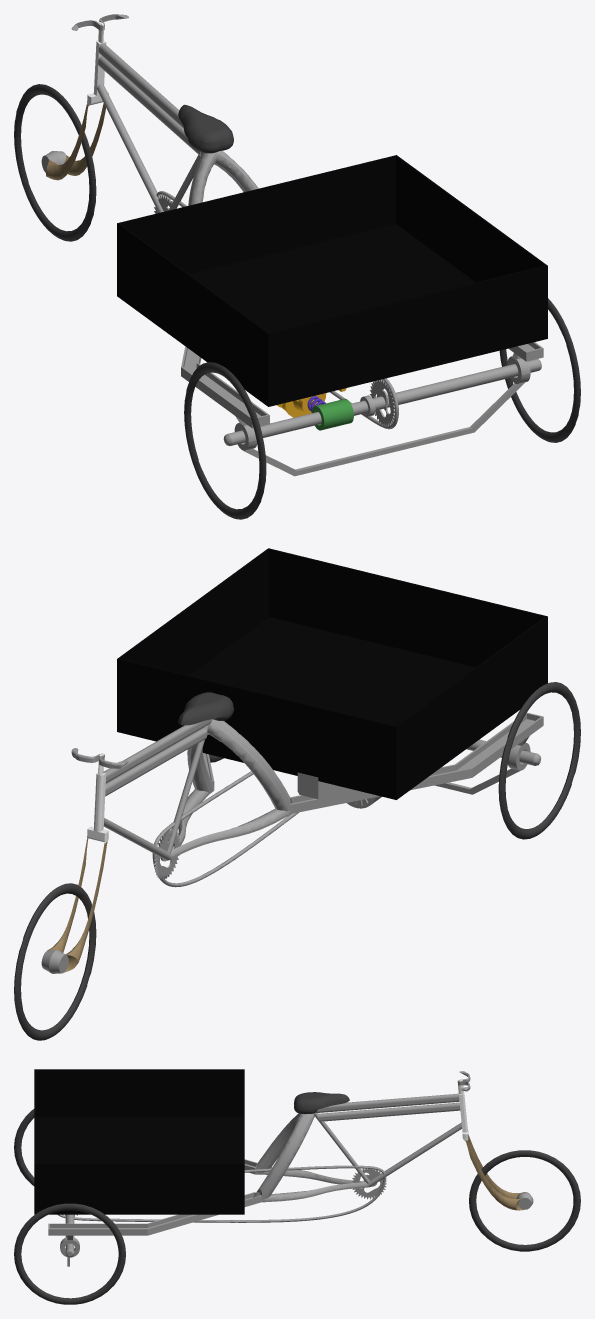
The model's file is tirare1234.glb.
The picture shows the model from 3 angles, top to bottom: view 1: azimuth 30°, elevation 25°; view 2: azimuth 150°, elevation 25°; view 3: azimuth 270°, elevation 25°; orthographic projection. The views are drawn at different scales.
Visible parts, largest first — view 1: empty_33, empty_16, empty_21, empty_23, empty_2, empty_30, empty_24, empty_15, empty_13, empty_12, empty_14, empty_32 (+3 smaller); view 2: empty_33, empty_16, empty_23, empty_2, empty_13, empty_17, empty_15, empty_18, empty_31, empty_12, empty_5, empty_8 (+2 smaller); view 3: empty_33, empty_16, empty_24, empty_2, empty_13, empty_31, empty_17, empty_12, empty_15, empty_14, empty_23, empty_7 (+3 smaller).
Part boxes in pixels (<box>): empty_33: <box>117,155,547,406</box>; empty_16: <box>181,151,543,428</box>; empty_21: <box>223,359,541,445</box>; empty_23: <box>184,362,266,519</box>; empty_2: <box>14,84,96,241</box>; empty_30: <box>243,382,524,476</box>; empty_24: <box>499,298,580,442</box>; empty_15: <box>178,104,233,153</box>; empty_13: <box>98,56,202,210</box>; empty_12: <box>99,43,183,128</box>; empty_14: <box>97,83,163,212</box>; empty_32: <box>311,398,353,430</box>; empty_33: <box>117,548,547,799</box>; empty_16: <box>187,712,543,811</box>; empty_23: <box>498,682,580,839</box>; empty_2: <box>14,883,96,1040</box>; empty_13: <box>105,724,209,854</box>; empty_17: <box>170,789,290,859</box>; empty_15: <box>178,692,233,725</box>; empty_18: <box>291,719,543,813</box>; empty_31: <box>152,771,298,887</box>; empty_12: <box>103,719,211,782</box>; empty_5: <box>87,772,108,842</box>; empty_8: <box>64,841,107,972</box>; empty_33: <box>34,1069,244,1214</box>; empty_16: <box>48,1113,314,1235</box>; empty_24: <box>14,1203,125,1304</box>; empty_2: <box>469,1150,580,1251</box>; empty_13: <box>313,1102,460,1183</box>; empty_31: <box>57,1165,386,1222</box>; empty_17: <box>262,1167,368,1202</box>; empty_12: <box>315,1093,459,1112</box>; empty_15: <box>294,1092,349,1114</box>; empty_14: <box>367,1122,461,1187</box>; empty_23: <box>14,1109,34,1185</box>; empty_7: <box>465,1140,524,1210</box>.
Size of the model in its own units: 183 by 135 by 405.
